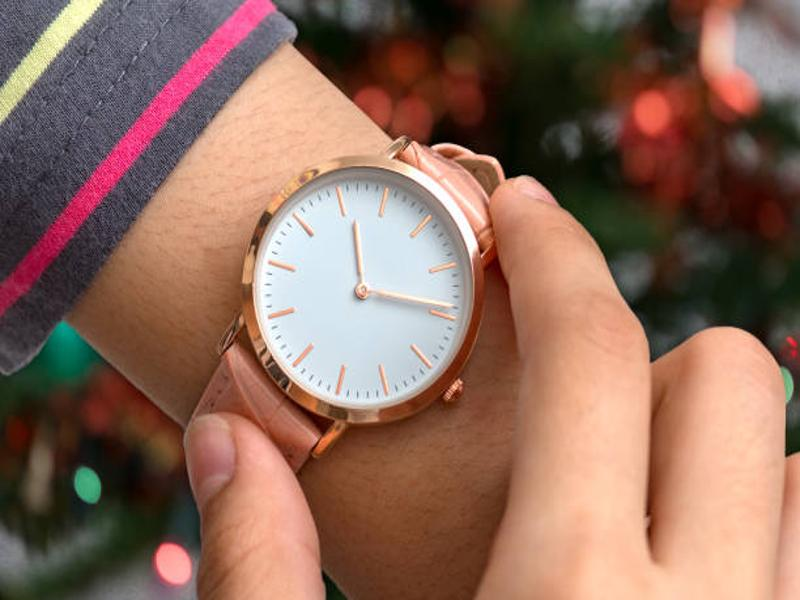watch: (182, 135, 517, 493)
